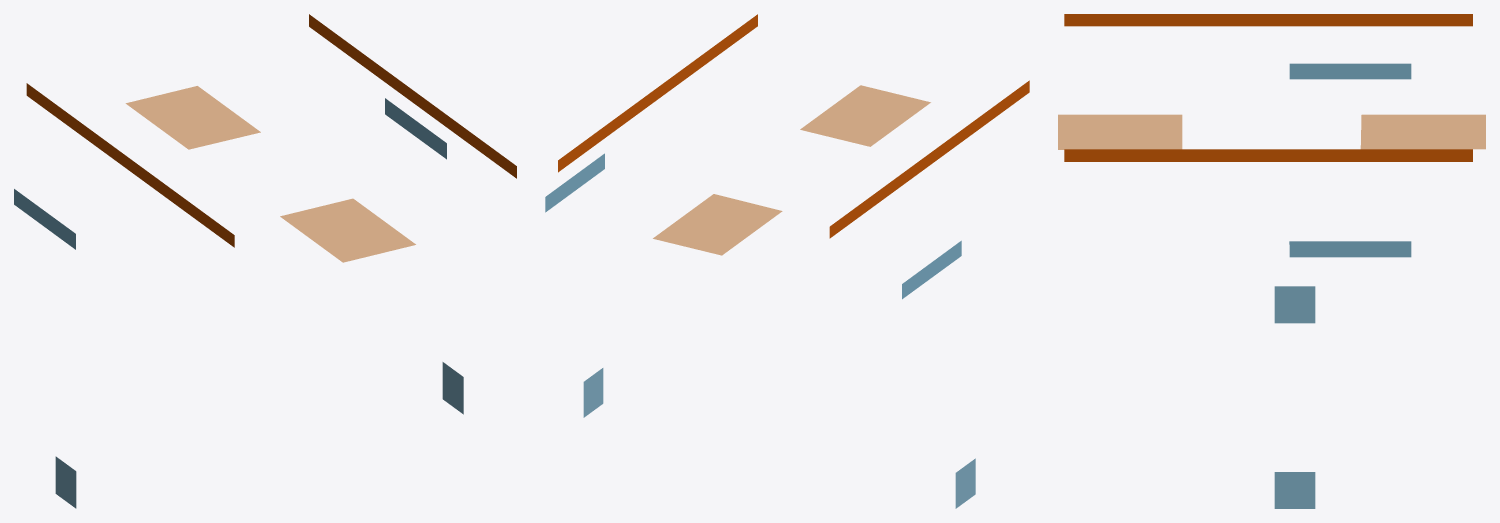
The model's file is HallwayStraightShortEmissives.fbx.
3 views of the same model, side by side, from view 1: azimuth 30°, elevation 25°; view 2: azimuth 150°, elevation 25°; view 3: azimuth 270°, elevation 25° (orthographic). The views are drawn at different scales.
Parts seen in each view (by area): view 1: HallwayStraightShort001Emissives; view 2: HallwayStraightShort001Emissives; view 3: HallwayStraightShort001Emissives.
Part boxes in pixels (left/top/right/bottom): HallwayStraightShort001Emissives: left=14, top=14, right=516, bottom=508; HallwayStraightShort001Emissives: left=545, top=14, right=1029, bottom=508; HallwayStraightShort001Emissives: left=1058, top=14, right=1485, bottom=508.
Bounding box in the file's own units: 539 × 452 × 525.
